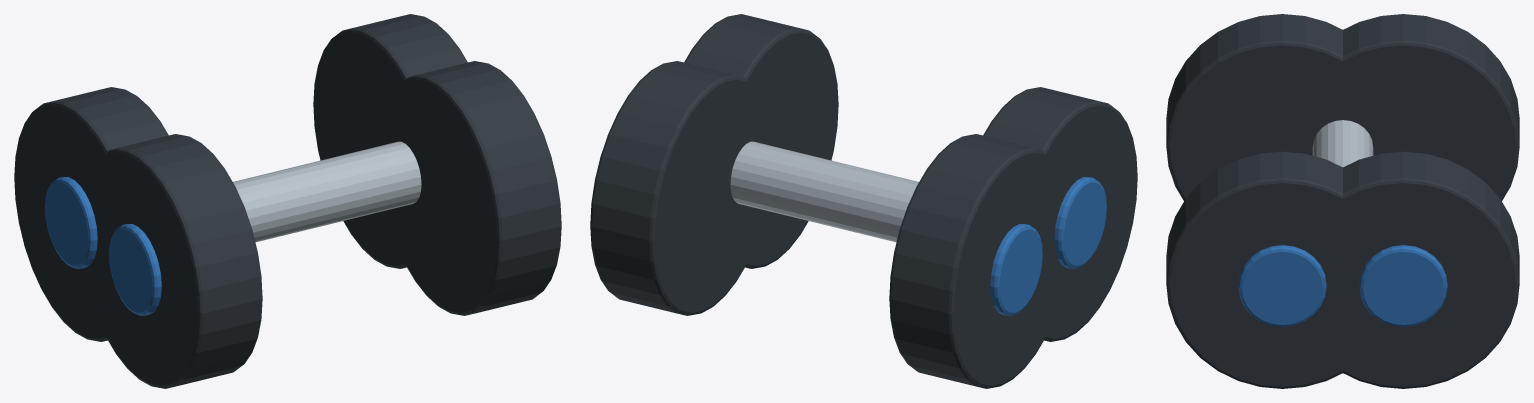
The model's file is pickup_weight.glb.
3 views of the same model, side by side, from view 1: azimuth 30°, elevation 25°; view 2: azimuth 150°, elevation 25°; view 3: azimuth 270°, elevation 25° (orthographic). The views are drawn at different scales.
Parts seen in each view (by area): view 1: Rubber weight plate, Rubber weight plate.002, Rubber weight plate.003, Rubber weight plate.001, Dumbbell grip, Blue plate hub, Blue plate hub.001; view 2: Rubber weight plate.001, Rubber weight plate.003, Rubber weight plate.002, Rubber weight plate, Dumbbell grip, Blue plate hub.001, Blue plate hub; view 3: Rubber weight plate.002, Rubber weight plate.003, Rubber weight plate, Rubber weight plate.001, Blue plate hub.002, Blue plate hub.003, Dumbbell grip.
Part boxes in pixels (x1=…): Rubber weight plate: x1=83, y1=134, x2=262, y2=388; Rubber weight plate.002: x1=379, y1=61, x2=561, y2=315; Rubber weight plate.003: x1=313, y1=14, x2=467, y2=268; Rubber weight plate.001: x1=14, y1=87, x2=168, y2=341; Dumbbell grip: x1=233, y1=141, x2=421, y2=242; Blue plate hub: x1=109, y1=224, x2=161, y2=315; Blue plate hub.001: x1=45, y1=177, x2=97, y2=268; Rubber weight plate.001: x1=889, y1=134, x2=1068, y2=388; Rubber weight plate.003: x1=590, y1=61, x2=754, y2=315; Rubber weight plate.002: x1=684, y1=14, x2=838, y2=268; Rubber weight plate: x1=983, y1=87, x2=1137, y2=341; Dumbbell grip: x1=730, y1=141, x2=918, y2=242; Blue plate hub.001: x1=990, y1=224, x2=1042, y2=315; Blue plate hub: x1=1054, y1=177, x2=1106, y2=268; Rubber weight plate.002: x1=1166, y1=151, x2=1386, y2=388; Rubber weight plate.003: x1=1299, y1=151, x2=1519, y2=388; Rubber weight plate: x1=1166, y1=14, x2=1394, y2=200; Rubber weight plate.001: x1=1291, y1=14, x2=1519, y2=200; Blue plate hub.002: x1=1238, y1=245, x2=1326, y2=326; Blue plate hub.003: x1=1359, y1=245, x2=1447, y2=326; Dumbbell grip: x1=1312, y1=120, x2=1373, y2=167.
Bounding box in the file's own units: 0.885 × 0.5 × 0.76.
